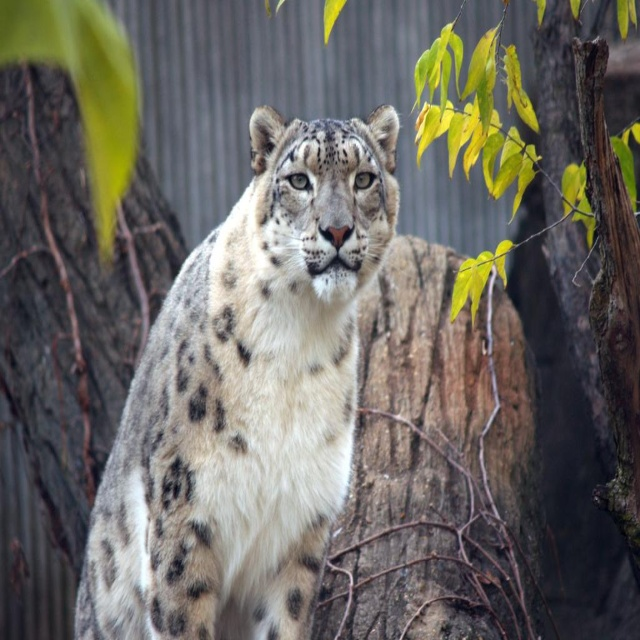Leopard: (74, 104, 400, 639)
